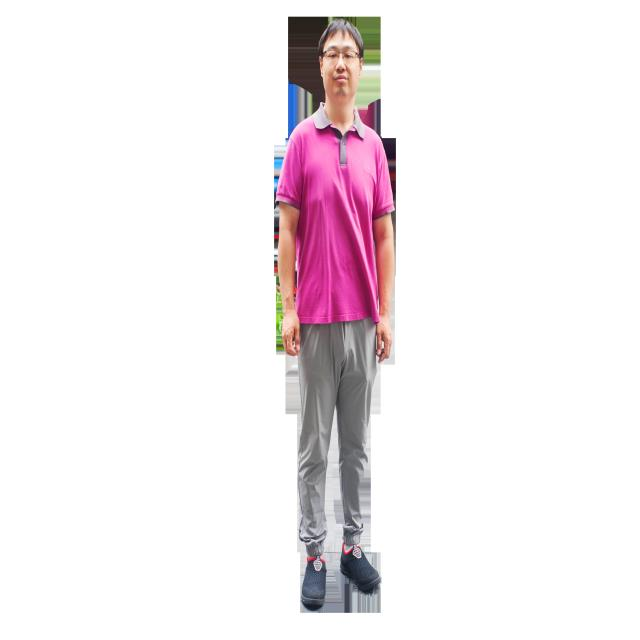jovem: (278, 27, 399, 605)
